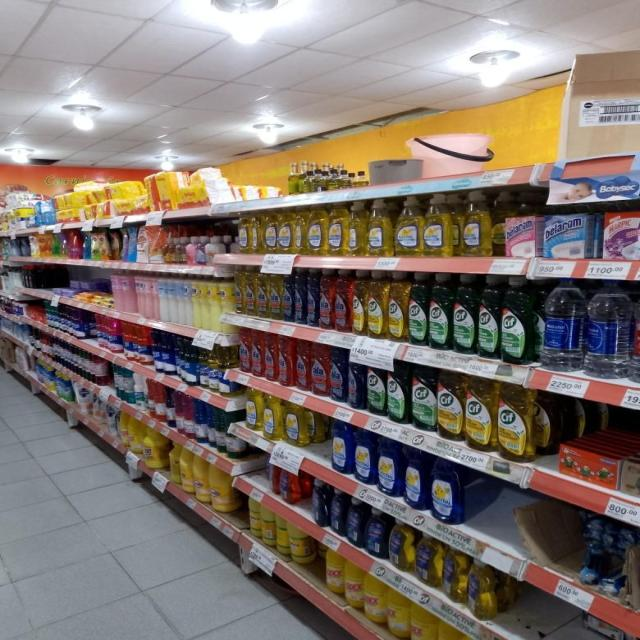ala_conc_amarillo: (269, 267, 282, 320), (257, 266, 269, 319), (245, 265, 256, 317), (234, 266, 244, 314)
ala_conc_azul: (347, 350, 365, 409), (330, 347, 346, 403), (306, 267, 318, 327), (294, 267, 306, 325), (282, 266, 293, 322)
ala_conc_rojo: (334, 268, 350, 332), (320, 268, 334, 330), (312, 343, 328, 397), (278, 336, 294, 386), (296, 340, 310, 392), (251, 330, 264, 378), (265, 332, 277, 382), (238, 329, 251, 374)
cif_conc_bot_amarilla: (498, 382, 537, 462), (465, 376, 496, 452), (437, 371, 464, 441), (367, 270, 387, 339), (388, 270, 407, 342), (351, 270, 366, 336)
cif_conc_botella_verde: (501, 276, 535, 364), (453, 274, 476, 354), (477, 276, 499, 359), (429, 272, 451, 351), (411, 365, 436, 432), (408, 272, 428, 346), (386, 360, 409, 424), (366, 356, 386, 417)
magistral_con_amarillo: (461, 190, 492, 257), (423, 193, 453, 257), (394, 195, 422, 258), (367, 198, 393, 257), (346, 200, 366, 257), (307, 202, 326, 256), (327, 200, 345, 256), (284, 402, 306, 446), (263, 396, 283, 442), (244, 389, 262, 433), (277, 206, 292, 254), (235, 214, 252, 254), (292, 204, 305, 255), (262, 208, 276, 254), (245, 212, 260, 254)
magistral_con_azul: (430, 458, 462, 524)
